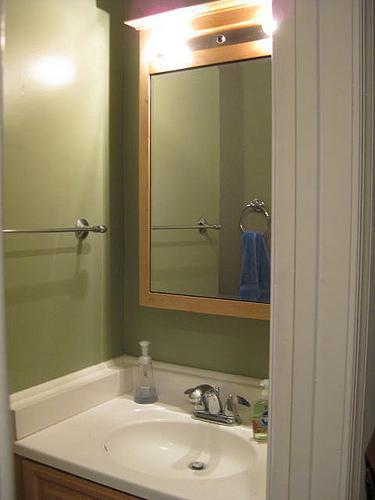Lavamanos: (6, 363, 292, 499)
